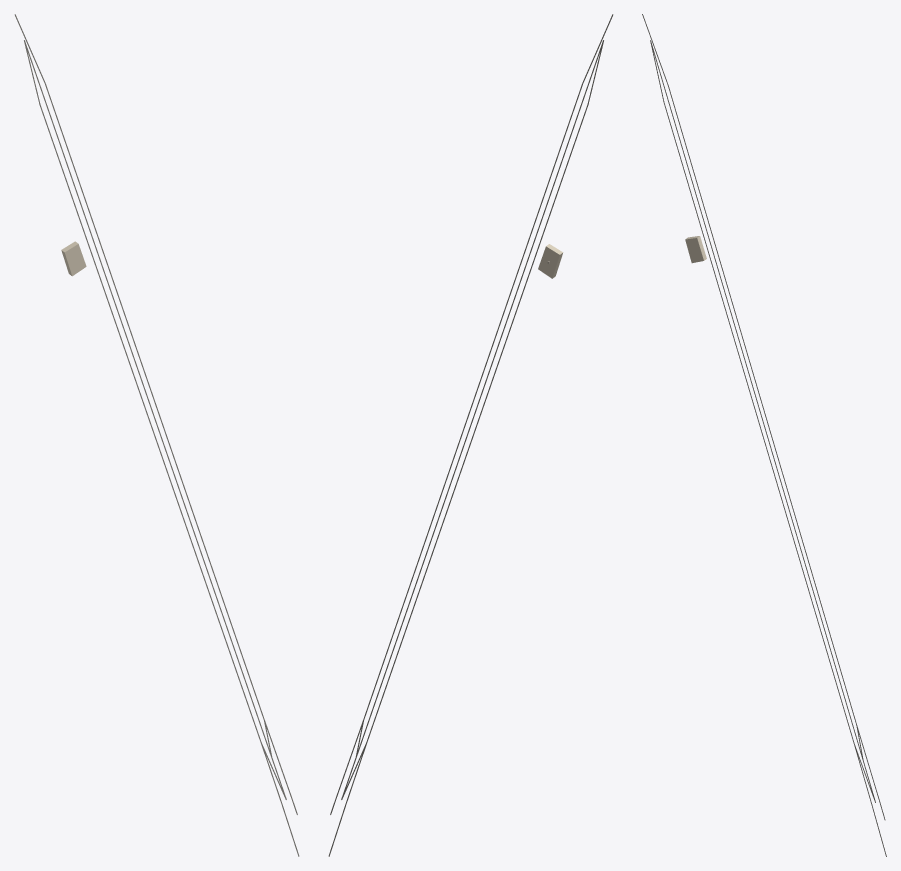
The model's file is historic-palestine-08_17_3499_3114.glb.
3 renders of one model, left to right at view 1: azimuth 30°, elevation 25°; view 2: azimuth 150°, elevation 25°; view 3: azimuth 330°, elevation 25°, orthographic. The views are drawn at different scales.
Parts seen in each view (by area): view 1: Road תחנה תפעולית ערוער, Road מסילת הנגב, Road תחנה תפעולית ערוער.001, Building_; view 2: Road מסילת הנגב, Road תחנה תפעולית ערוער, Road תחנה תפעולית ערוער.001, Building_; view 3: Road מסילת הנגב, Road תחנה תפעולית ערוער, Road תחנה תפעולית ערוער.001.
Boxes of the visible parts, x1,y1,x2,y2 form: Road תחנה תפעולית ערוער: (24,41,286,799); Road מסילת הנגב: (24,40,286,799); Road תחנה תפעולית ערוער.001: (14,14,272,757); Building_: (61,241,86,276); Road מסילת הנגב: (341,40,603,799); Road תחנה תפעולית ערוער: (341,40,603,799); Road תחנה תפעולית ערוער.001: (355,14,613,757); Building_: (538,244,563,278); Road מסילת הנגב: (650,40,875,802); Road תחנה תפעולית ערוער: (650,40,874,799); Road תחנה תפעולית ערוער.001: (642,14,863,760).
Bounding box in the file's own units: 362 × 1105 × 8.7.
